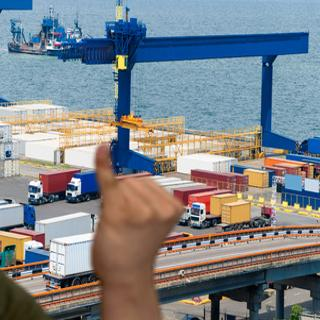FINE: (84, 141, 187, 285)
